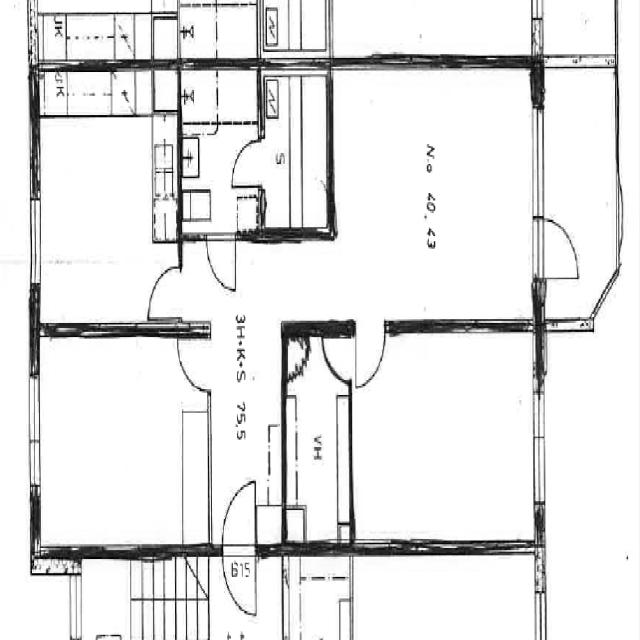door: (220, 477, 260, 611), (538, 212, 582, 286), (351, 323, 387, 390), (146, 261, 184, 323), (175, 331, 209, 396), (228, 134, 264, 192), (206, 232, 237, 292)
window: (528, 375, 551, 516), (526, 96, 550, 226), (24, 368, 45, 494), (26, 192, 44, 292), (266, 52, 326, 76), (589, 274, 617, 324), (66, 572, 86, 639)
zone: (334, 67, 532, 327), (350, 326, 538, 549), (33, 331, 211, 553), (36, 62, 177, 329), (540, 56, 621, 320), (282, 331, 352, 548), (177, 64, 260, 231), (260, 69, 331, 235)
